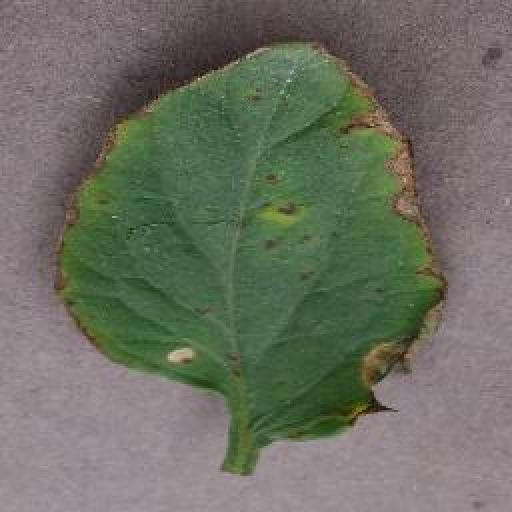Bacterial Spot: (51, 34, 448, 438)
